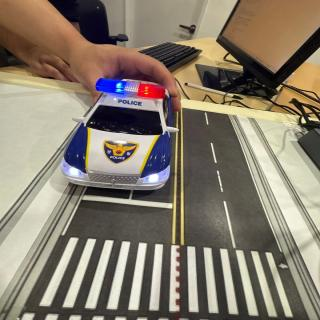Police_car: (61, 79, 178, 189)
